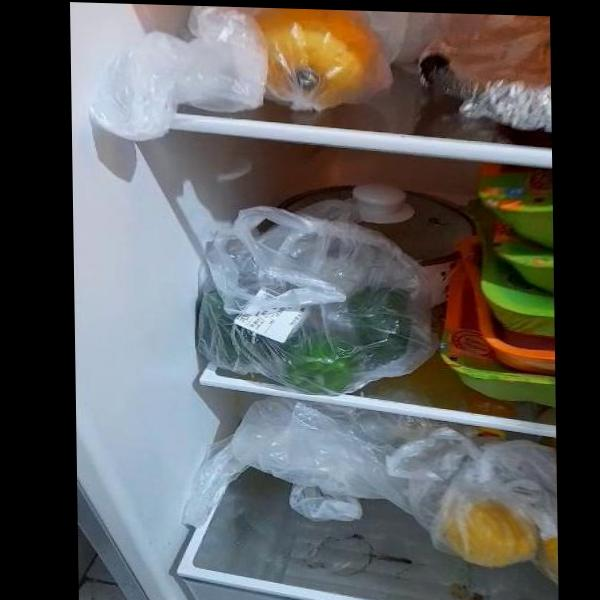lemon: (246, 7, 377, 102), (445, 499, 538, 566)
